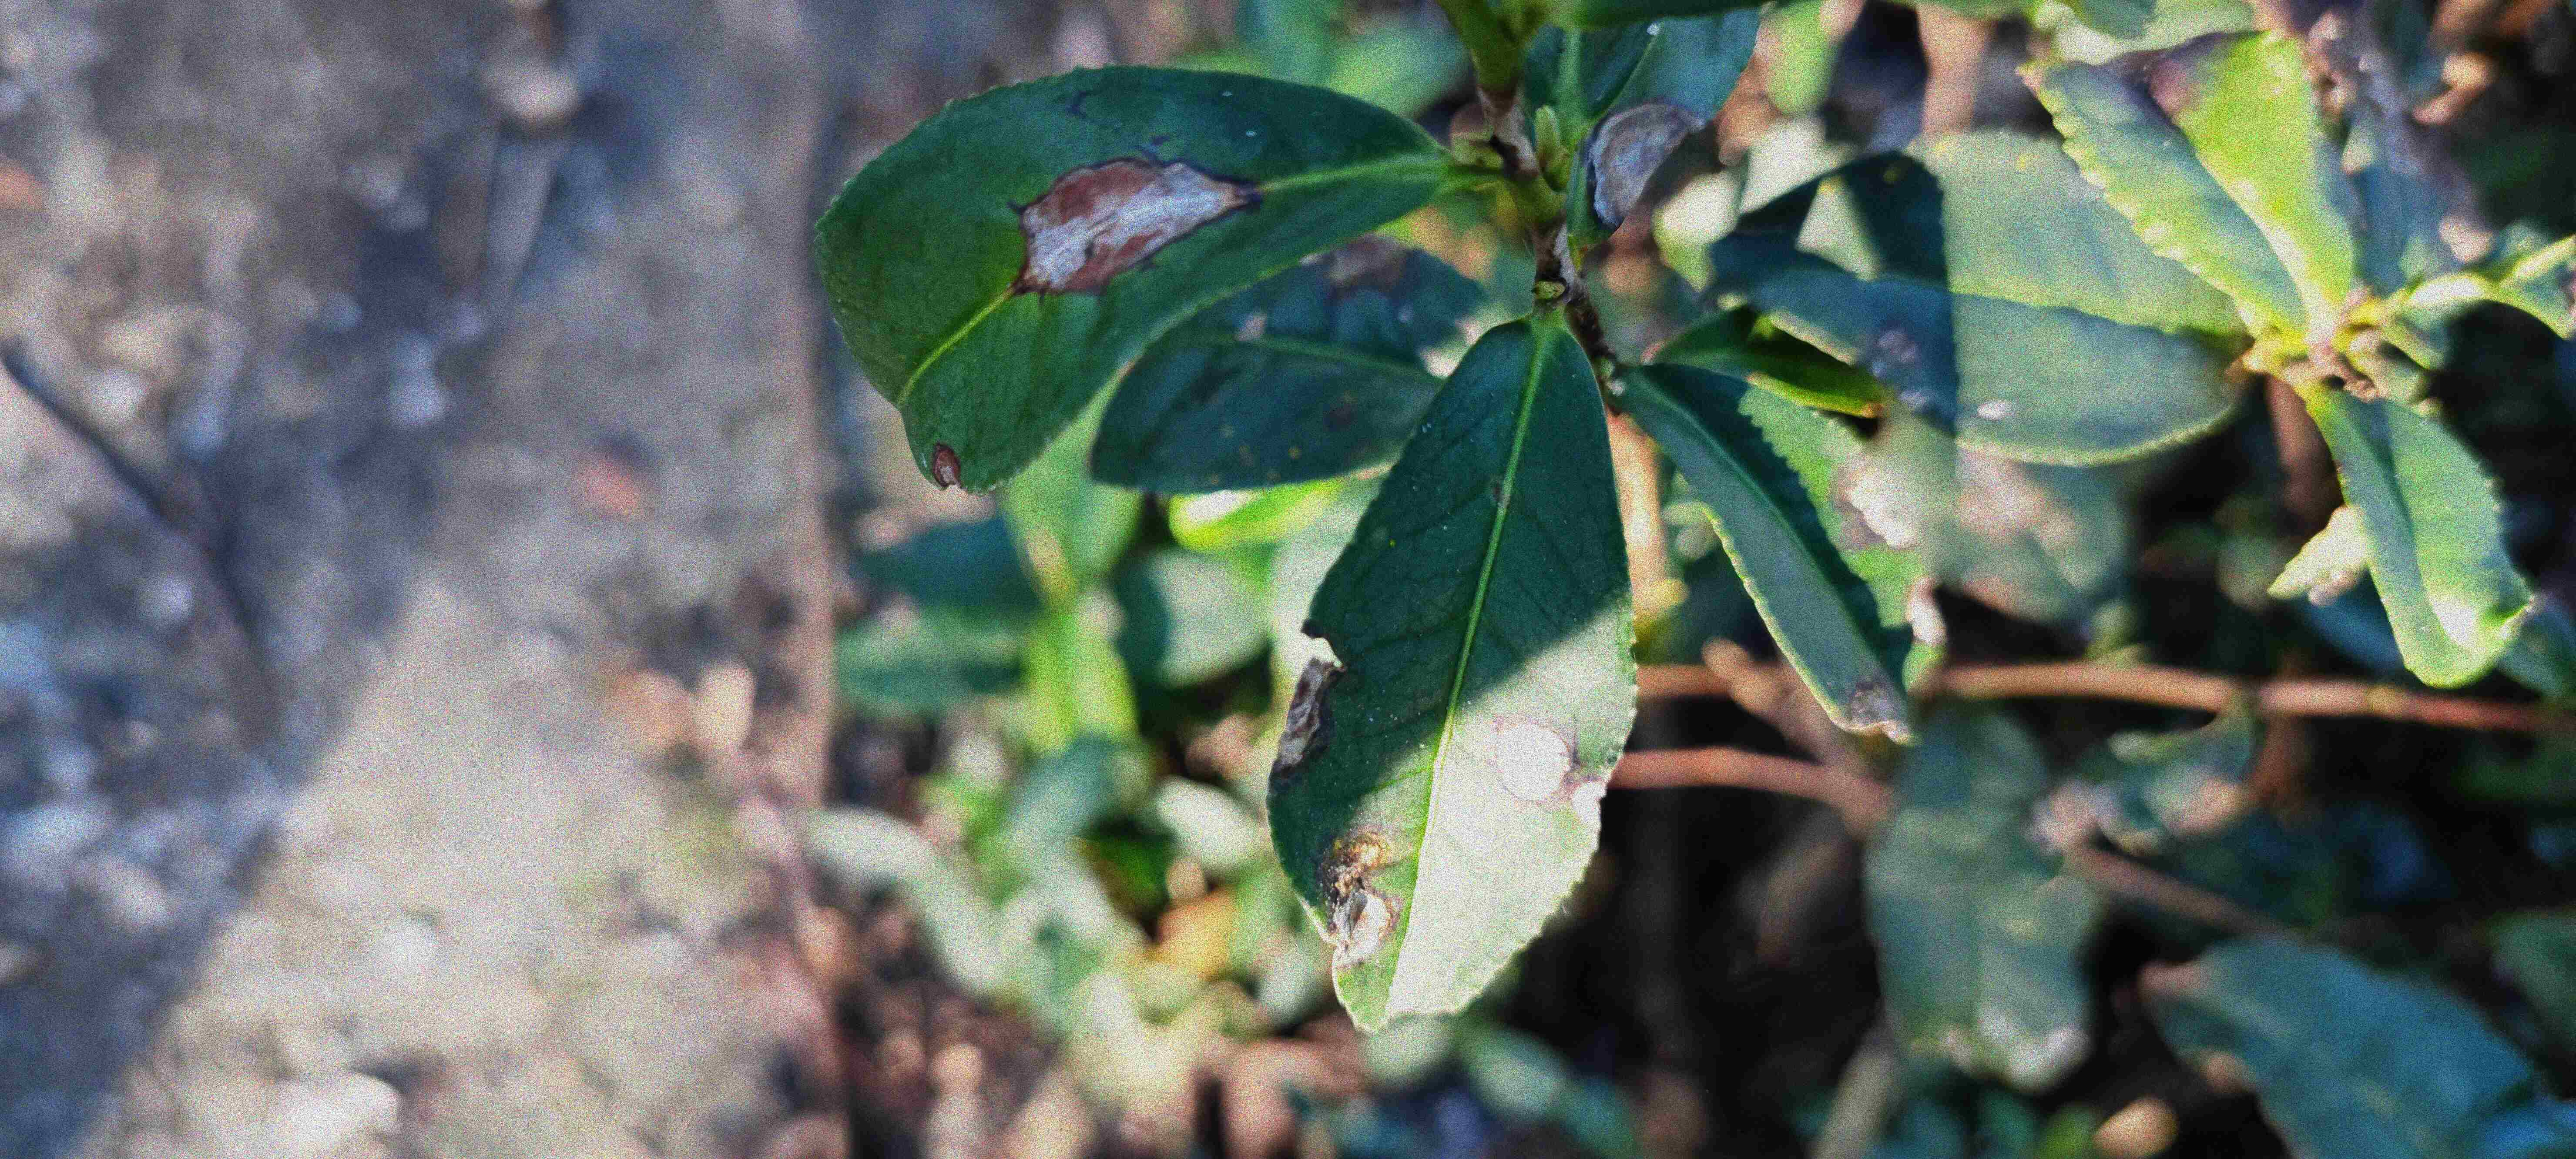tanju_high: (812, 62, 1459, 497), (1263, 305, 1644, 1039), (1625, 360, 1952, 745), (1559, 16, 1761, 256)
